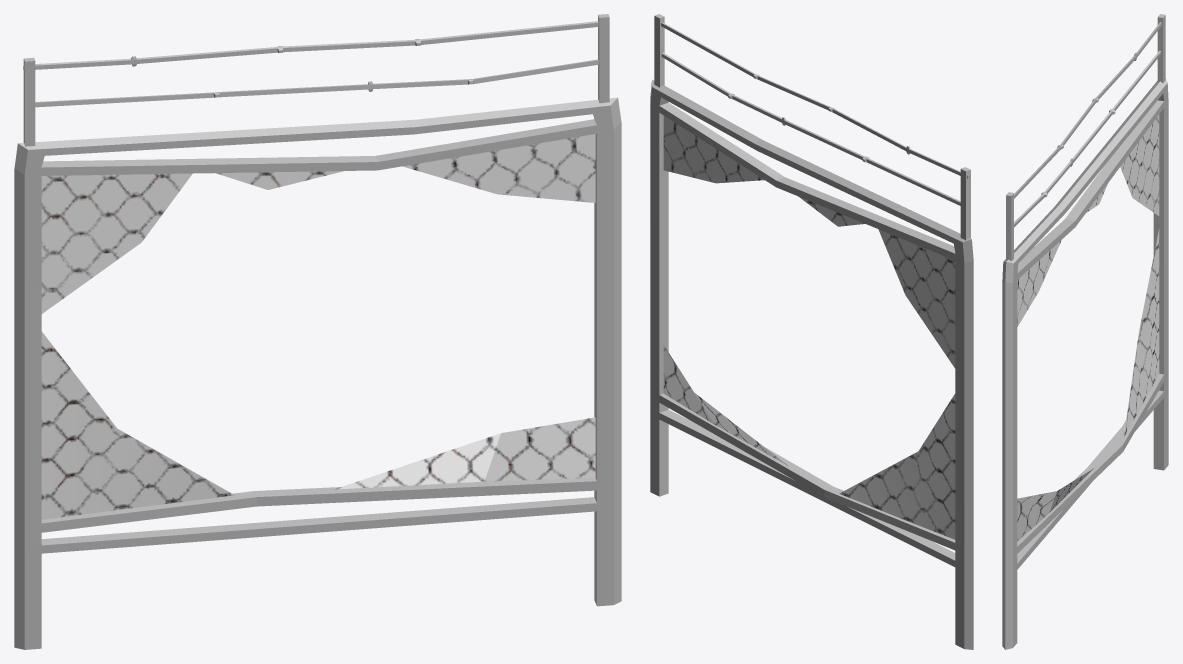
The model's file is Prop_Fence_Anim.fbx.
3 renders of one model, left to right at view 1: azimuth 30°, elevation 25°; view 2: azimuth 150°, elevation 25°; view 3: azimuth 270°, elevation 25°, orthographic. The views are drawn at different scales.
Parts seen in each view (by area): view 1: SM_Prop_Fence_Anim_01, SM_Prop_Fence_Anim_02, SM_Prop_Fence_Anim; view 2: SM_Prop_Fence_Anim_01, SM_Prop_Fence_Anim_02, SM_Prop_Fence_Anim; view 3: SM_Prop_Fence_Anim_01, SM_Prop_Fence_Anim_02, SM_Prop_Fence_Anim.
Part boxes in pixels (<box>): SM_Prop_Fence_Anim_01: <box>14,56,417,649</box>; SM_Prop_Fence_Anim_02: <box>326,14,621,606</box>; SM_Prop_Fence_Anim: <box>136,39,529,506</box>; SM_Prop_Fence_Anim_01: <box>755,138,973,649</box>; SM_Prop_Fence_Anim_02: <box>650,14,802,496</box>; SM_Prop_Fence_Anim: <box>692,74,906,496</box>; SM_Prop_Fence_Anim_01: <box>1055,14,1168,485</box>; SM_Prop_Fence_Anim_02: <box>1002,146,1088,649</box>; SM_Prop_Fence_Anim: <box>1035,56,1135,533</box>.
Bounding box in the file's own units: 286 × 319 × 107.
